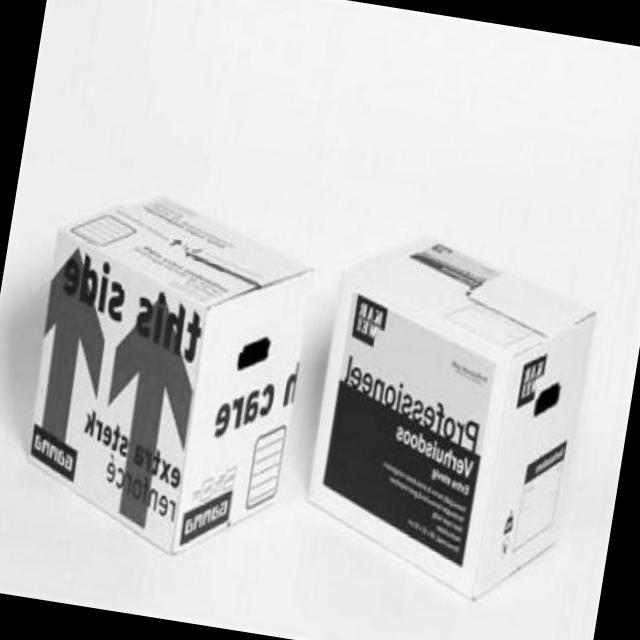box: (8, 172, 328, 574), (293, 220, 608, 616)
